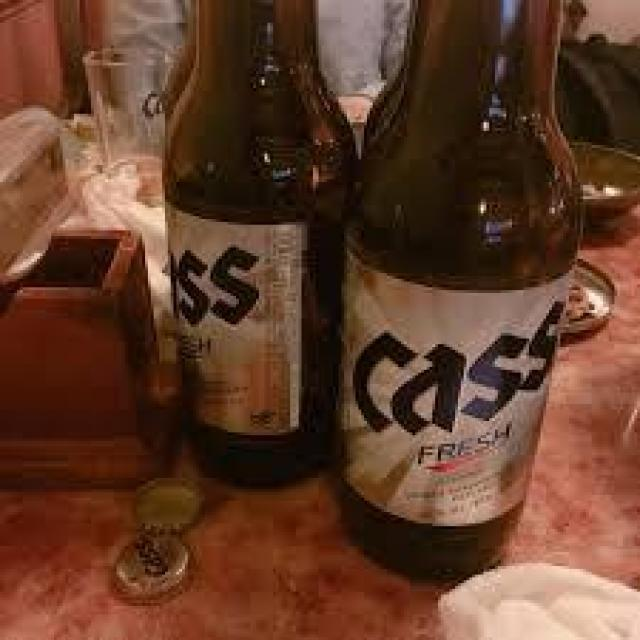beer-bottle: (337, 0, 590, 580), (162, 0, 335, 486)
